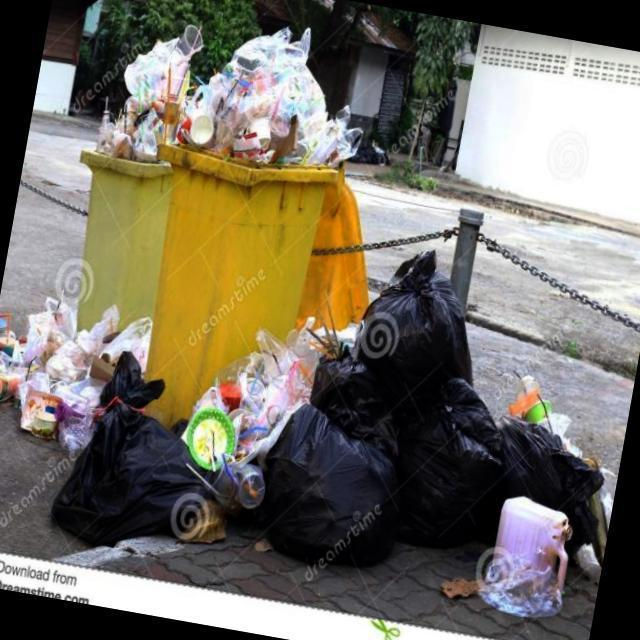garbage: (247, 221, 640, 624), (0, 300, 283, 551), (86, 7, 368, 165), (76, 100, 170, 164)
